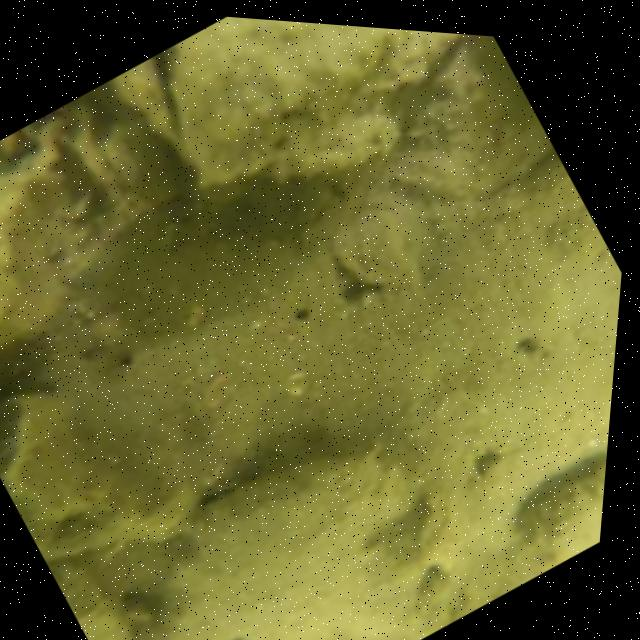Oyster-Closed: (116, 17, 473, 196)
Oyster-Indeterminate: (368, 35, 551, 202)
